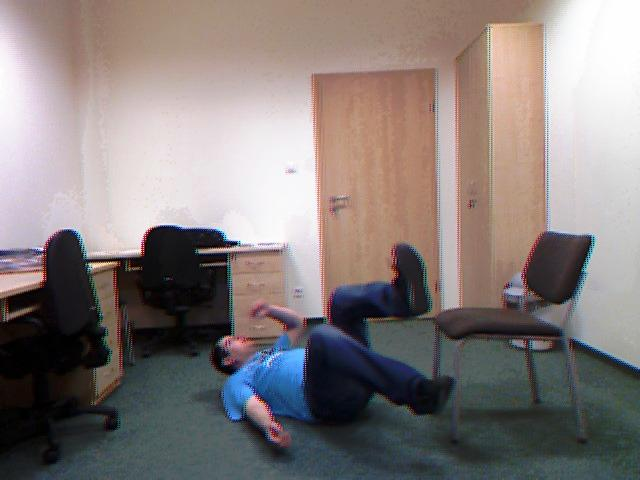fall: (199, 240, 464, 456)
